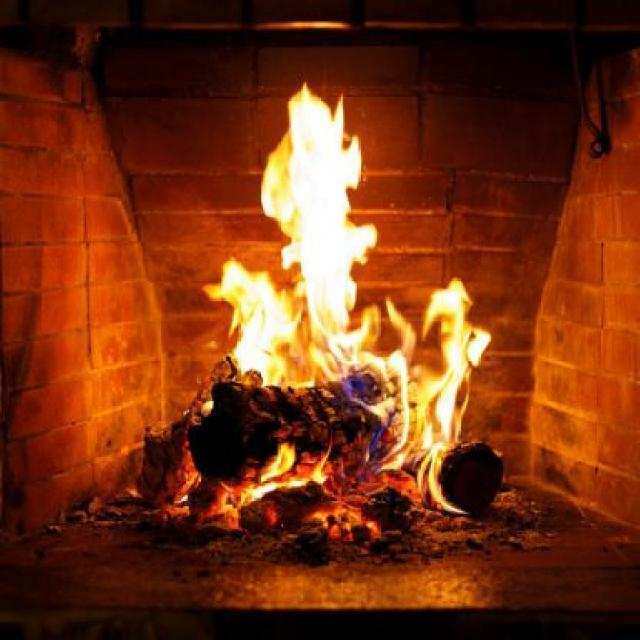Fire: (204, 80, 385, 372), (386, 279, 490, 443), (240, 443, 326, 495), (418, 442, 456, 514)
